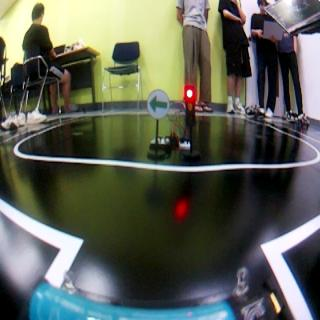left: (147, 87, 170, 119)
red: (184, 83, 196, 160)
